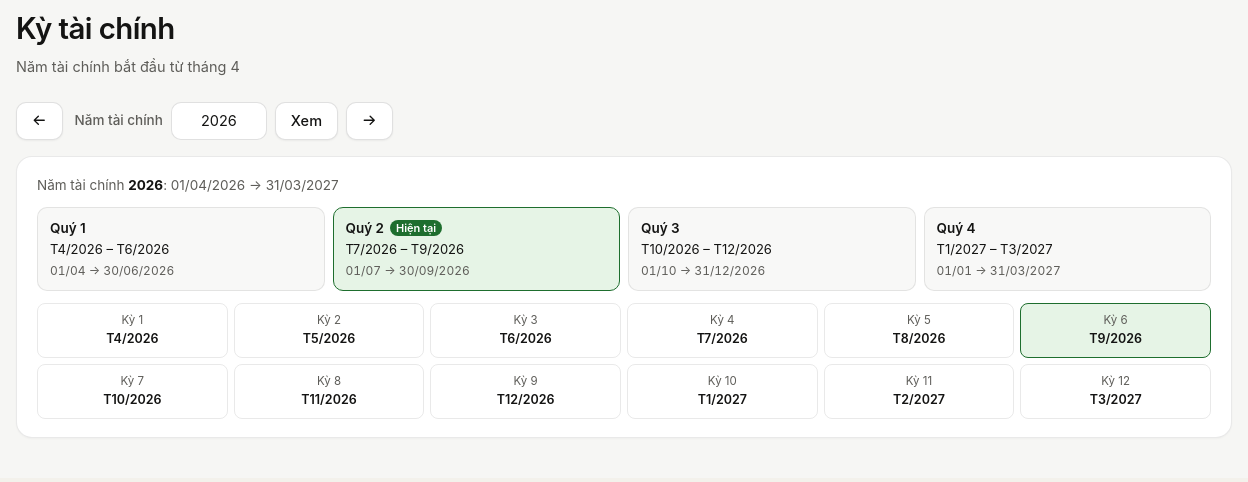
Test case: FiscalPeriodPage (NCL-15-CN-002 TC-01) › năm ngoài 2000–2100 báo lỗi ngay, không gọi API
Expected: the element with test id "fiscal-range" is shown, [37,177,339,193]
Step 1. Replace the text in the field with test id "fiscal-year-input" with "1999" → (219, 121), box [171,102,267,140]
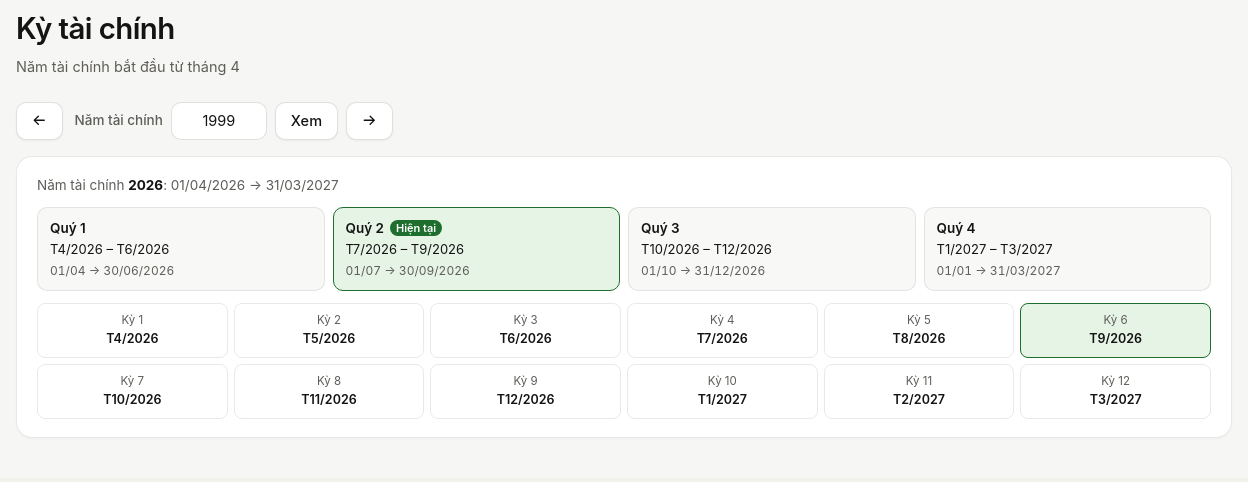
Step 2. Click the button with test id "fiscal-go" → (306, 121), box [275,102,338,140]
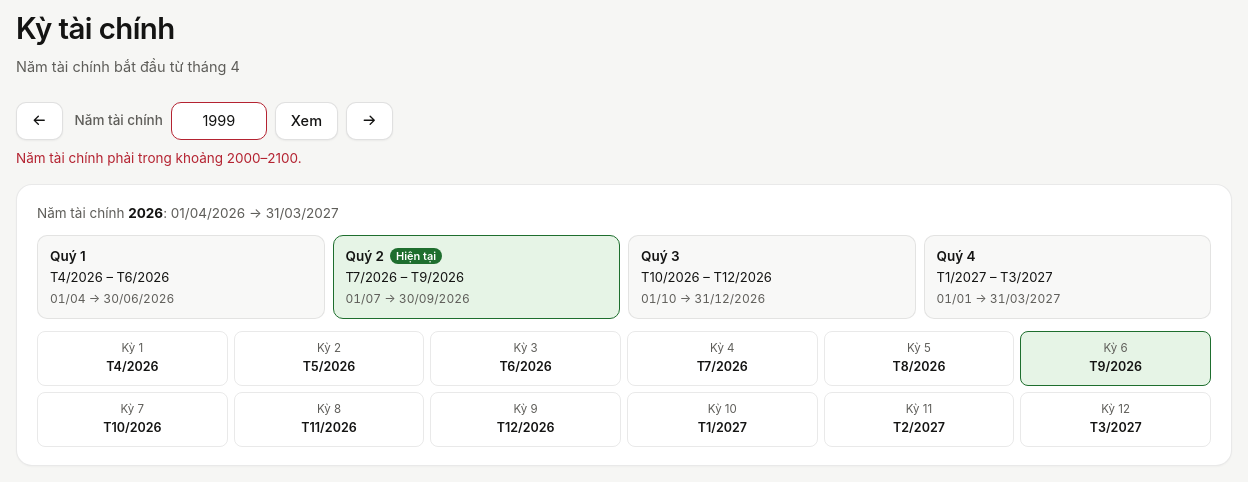
Result: the message with test id "fiscal-year-error" shows "2000–2100" at [16,150,302,166]
